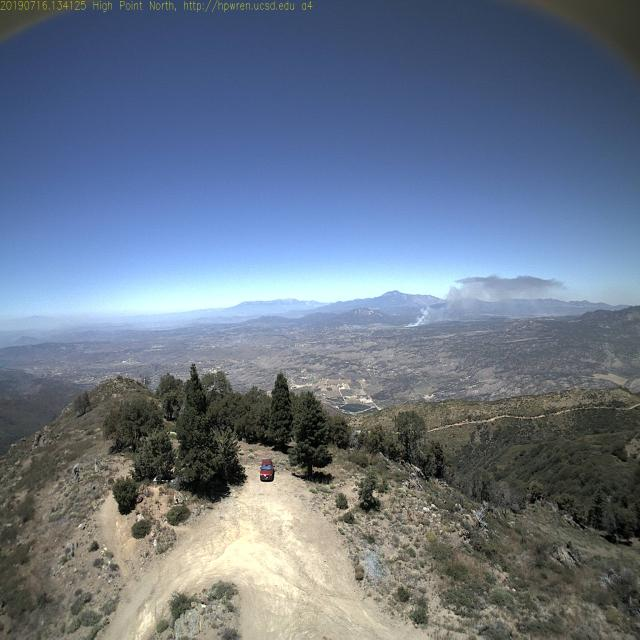smoke: (395, 294, 454, 343)
